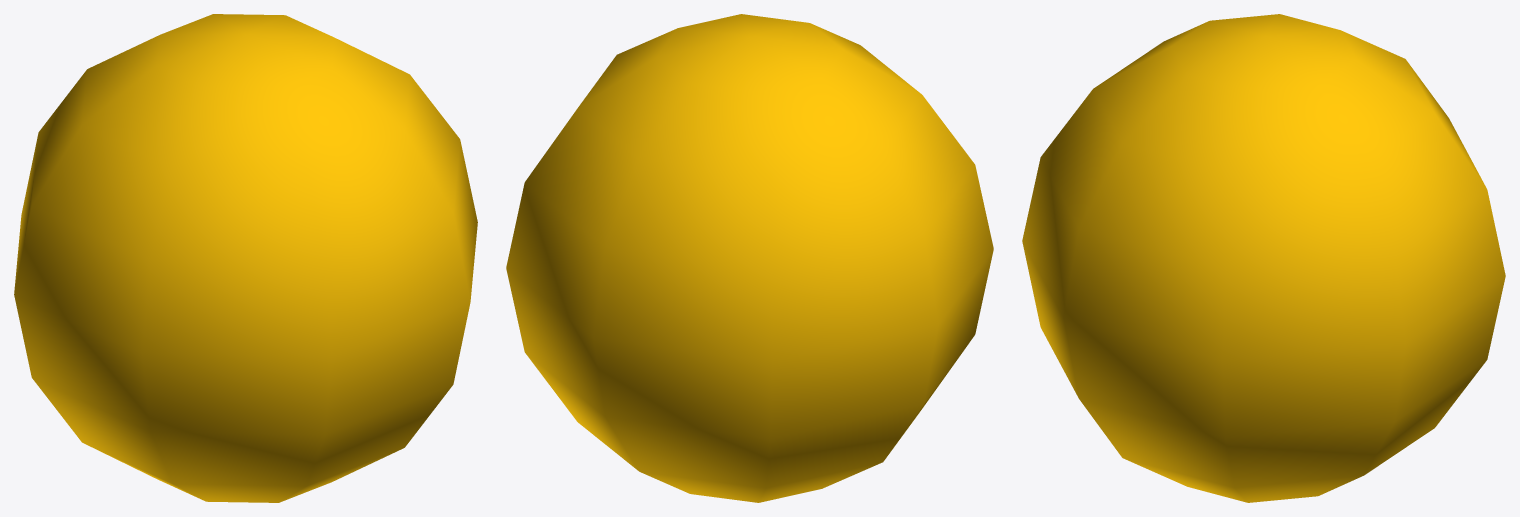
The model's file is sun.glb.
The picture shows the model from 3 angles, left to right: view 1: azimuth 30°, elevation 25°; view 2: azimuth 150°, elevation 25°; view 3: azimuth 270°, elevation 25°; orthographic projection.
Parts seen in each view (by area): view 1: Sphere; view 2: Sphere; view 3: Sphere.
Boxes of the visible parts, x1=… form: Sphere: x1=14, y1=14, x2=477, y2=502; Sphere: x1=506, y1=14, x2=993, y2=502; Sphere: x1=1022, y1=14, x2=1505, y2=502.
Size of the model in its own units: 1.97 by 2 by 1.97.
